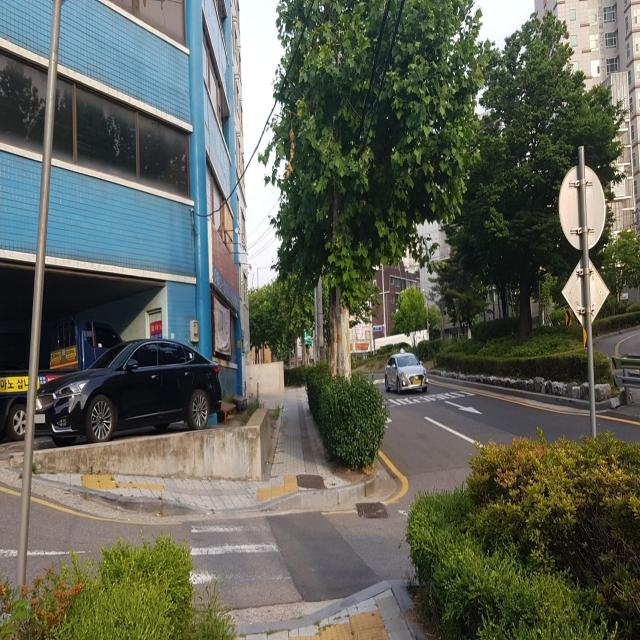횡단보도: (188, 524, 292, 585)
